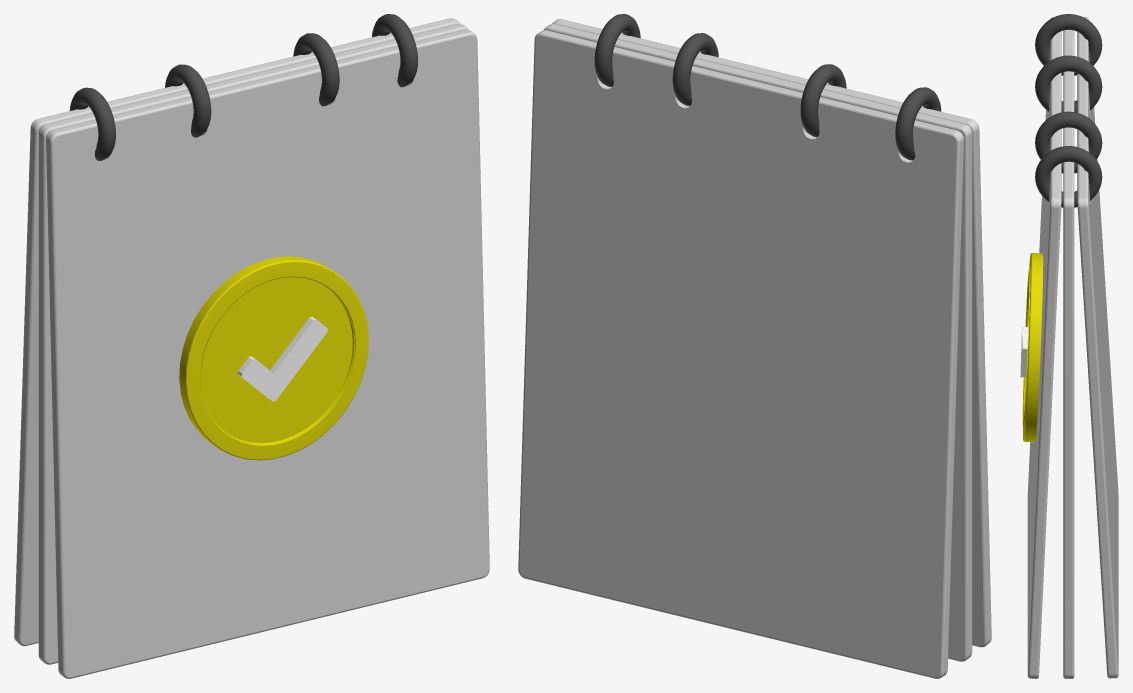
The model's file is notepad.glb.
3 views of the same model, side by side, from view 1: azimuth 30°, elevation 25°; view 2: azimuth 150°, elevation 25°; view 3: azimuth 270°, elevation 25° (orthographic). The views are drawn at different scales.
Parts seen in each view (by area): view 1: Notepad; view 2: Notepad; view 3: Notepad.
Part boxes in pixels (x1,y1,x2,y2): Notepad: [14, 14, 489, 678]; Notepad: [518, 14, 991, 678]; Notepad: [1020, 14, 1118, 678].
Size of the model in its own units: 22.98 by 28.89 by 5.1.
